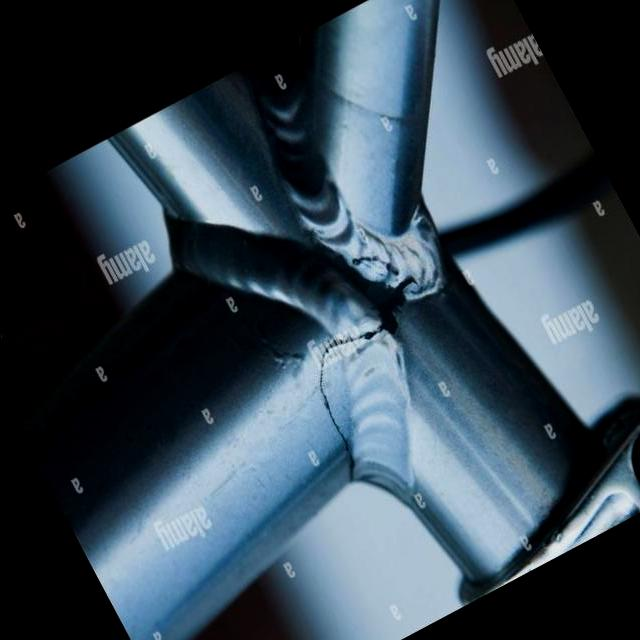defect: (312, 324, 383, 495), (342, 251, 400, 281)
